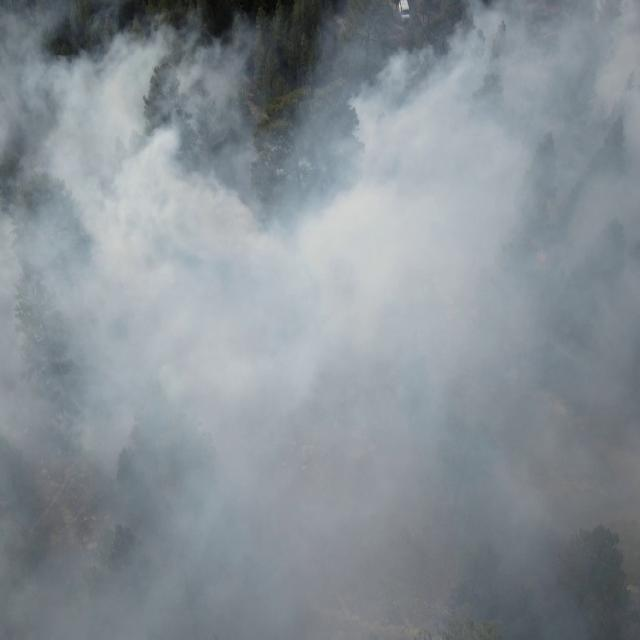fire: (534, 251, 550, 267)
smoke: (0, 0, 640, 640)
